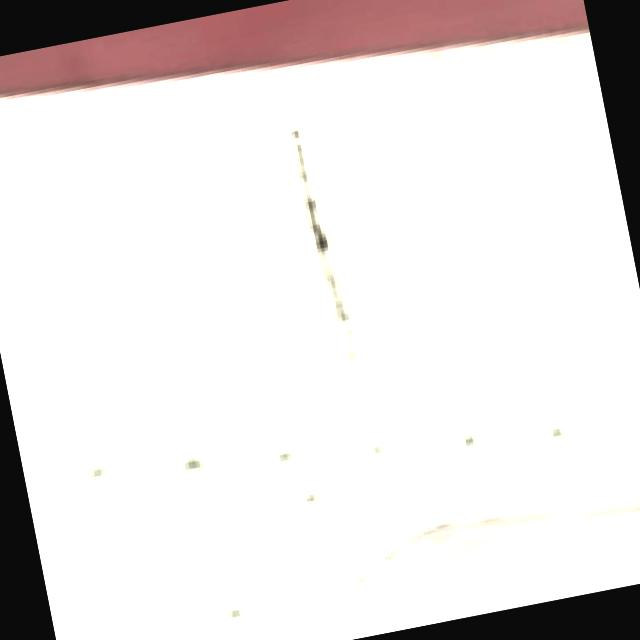crack: (249, 99, 361, 354)
